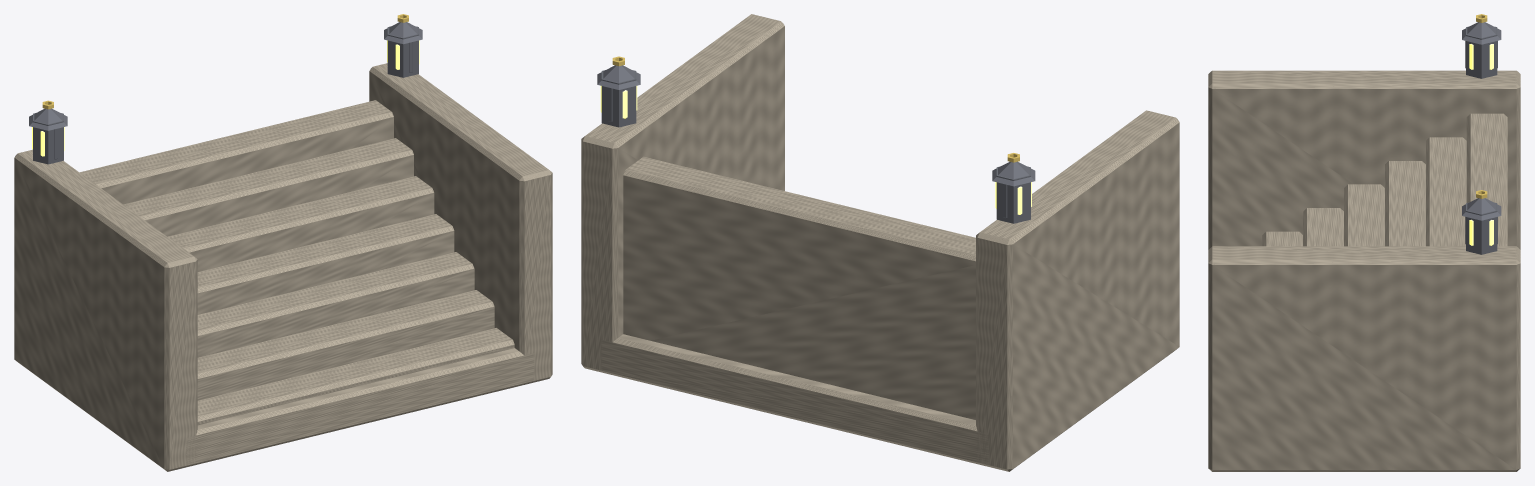
Rendered from fantasy-mmo-city-and-townsfolk-street-steps-ebce5704__32727.glb.
The picture shows the model from 3 angles, left to right: view 1: azimuth 30°, elevation 25°; view 2: azimuth 150°, elevation 25°; view 3: azimuth 270°, elevation 25°; orthographic projection. The views are drawn at different scales.
Parts seen in each view (by area): view 1: street-steps; view 2: street-steps; view 3: street-steps.
Part boxes in pixels (left/top/right/bottom): street-steps: left=14, top=14, right=552, bottom=471; street-steps: left=581, top=14, right=1179, bottom=471; street-steps: left=1208, top=14, right=1520, bottom=471.
Bounding box in the file's own units: 3.55 × 2.31 × 2.4.
4 materials, 1 textured.
